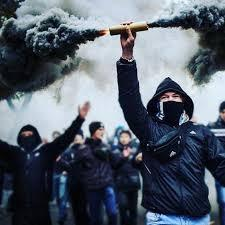smoke: (0, 0, 225, 142), (96, 20, 118, 46)
